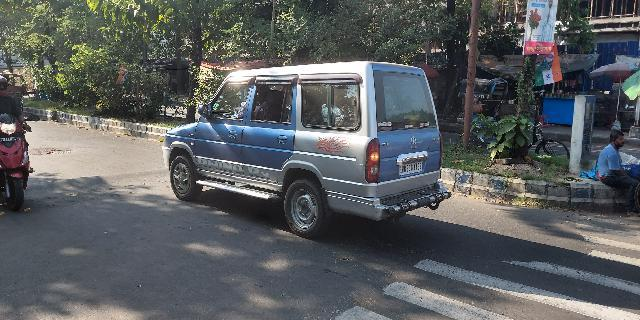Car: (157, 59, 446, 247)
Motorbike: (1, 80, 39, 216)
